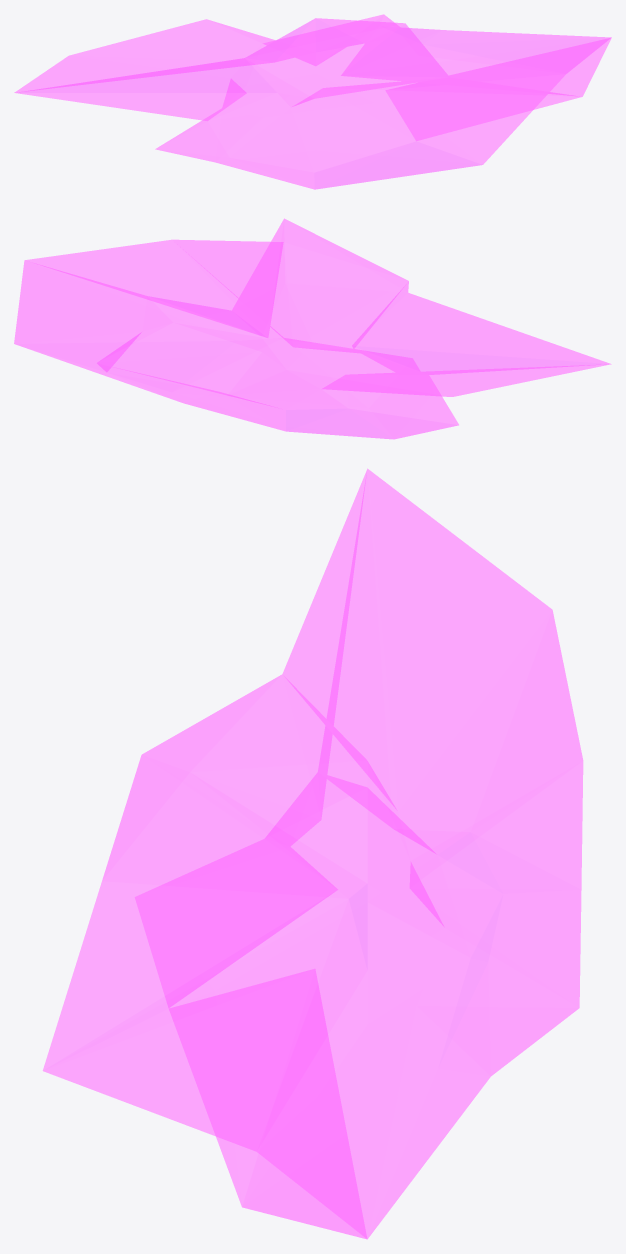
File: nebula.glb
The picture shows the model from 3 angles, top to bottom: view 1: azimuth 30°, elevation 25°; view 2: azimuth 150°, elevation 25°; view 3: azimuth 270°, elevation 25°; orthographic projection. The views are drawn at different scales.
Parts seen in each view (by area): view 1: ENV_NEBULA_01_LITE; view 2: ENV_NEBULA_01_LITE; view 3: ENV_NEBULA_01_LITE.
Boxes of the visible parts, x1=… form: ENV_NEBULA_01_LITE: x1=14, y1=14, x2=611, y2=189; ENV_NEBULA_01_LITE: x1=14, y1=218, x2=611, y2=439; ENV_NEBULA_01_LITE: x1=43, y1=468, x2=583, y2=1239.
Bounding box in the file's own units: 116 × 33.82 × 47.8.
